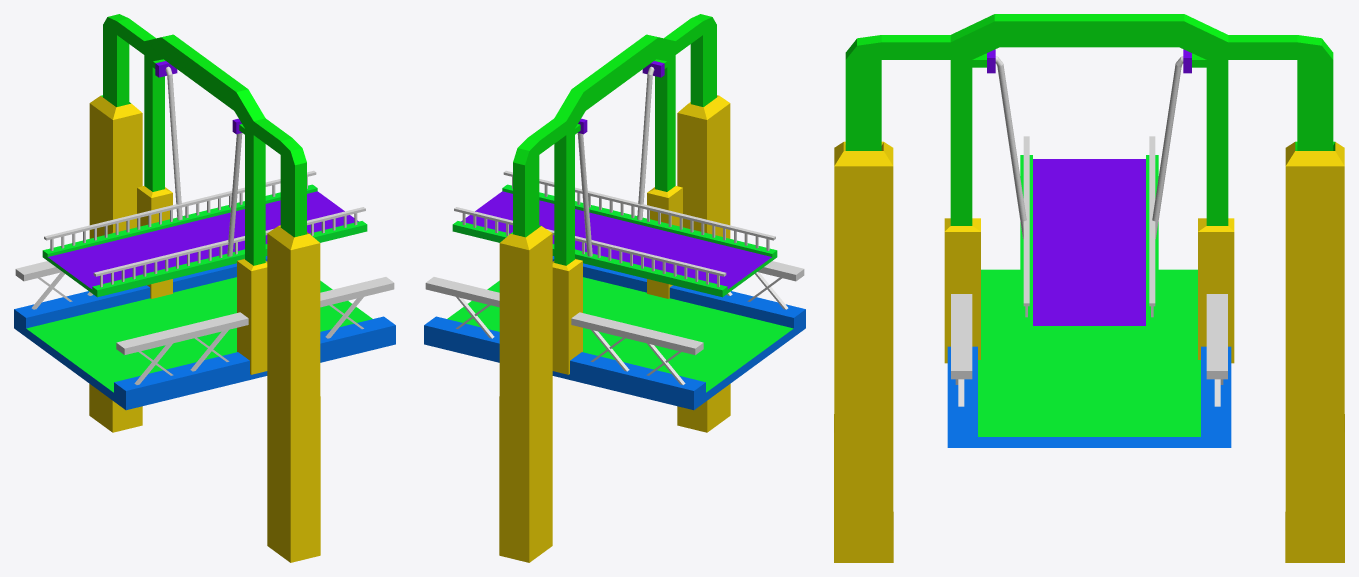
File: Bridge.fbx
3 renders of one model, left to right at view 1: azimuth 30°, elevation 25°; view 2: azimuth 150°, elevation 25°; view 3: azimuth 270°, elevation 25°, orthographic. The views are drawn at different scales.
Visible parts, largest first — view 1: Cube.096, Cube.079, Cube.083, Cube.078, Cube.088, Cube.090, Cylinder.001, Cube.092, Cube.081, Cube.085, Cube.095, Cube.093 (+1 smaller); view 2: Cube.096, Cube.079, Cube.083, Cube.078, Cube.088, Cube.090, Cylinder.001, Cube.092, Cube.081, Cube.085, Cube.095, Cube.093 (+1 smaller); view 3: Cube.096, Cube.078, Cube.088, Cube.083, Cube.079, Cube.081, Cylinder.001, Cube.095, Cube.092.
Part boxes in pixels (box(x1,y1,x2,y2)): Cube.096: box(89, 14, 320, 562); Cube.079: box(14, 285, 260, 410); Cube.083: box(42, 217, 232, 297); Cube.078: box(162, 256, 395, 377); Cube.088: box(181, 184, 367, 264); Cube.090: box(15, 261, 248, 355); Cylinder.001: box(165, 66, 242, 256); Cube.092: box(44, 204, 228, 276); Cube.081: box(320, 277, 394, 307); Cube.085: box(50, 210, 222, 287); Cube.095: box(180, 170, 365, 242); Cube.093: box(185, 177, 357, 254); Cube.096: box(499, 14, 730, 562); Cube.079: box(559, 285, 805, 410); Cube.083: box(587, 217, 777, 297); Cube.078: box(424, 256, 657, 377); Cube.088: box(452, 184, 638, 264); Cube.090: box(571, 261, 804, 355); Cylinder.001: box(577, 66, 654, 256); Cube.092: box(591, 204, 775, 276); Cube.081: box(425, 277, 499, 307); Cube.085: box(597, 210, 769, 287); Cube.095: box(454, 170, 639, 242); Cube.093: box(462, 177, 634, 254); Cube.096: box(834, 14, 1344, 562); Cube.078: box(947, 346, 1231, 447); Cube.088: box(1020, 238, 1158, 330); Cube.083: box(1020, 155, 1158, 242); Cube.079: box(981, 269, 1197, 353); Cube.081: box(951, 294, 1227, 379); Cylinder.001: box(995, 56, 1183, 238); Cube.095: box(1023, 219, 1155, 306); Cube.092: box(1023, 136, 1155, 219).
Size of the model in its own units: 1400 by 2093 by 1808.
